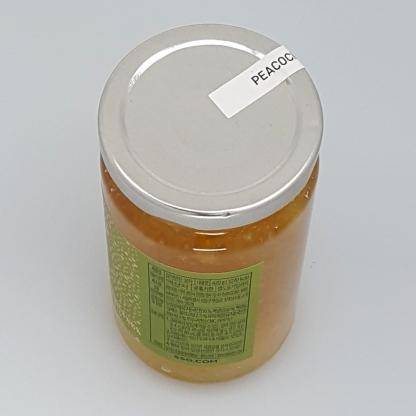------------420G: (97, 23, 323, 384)
